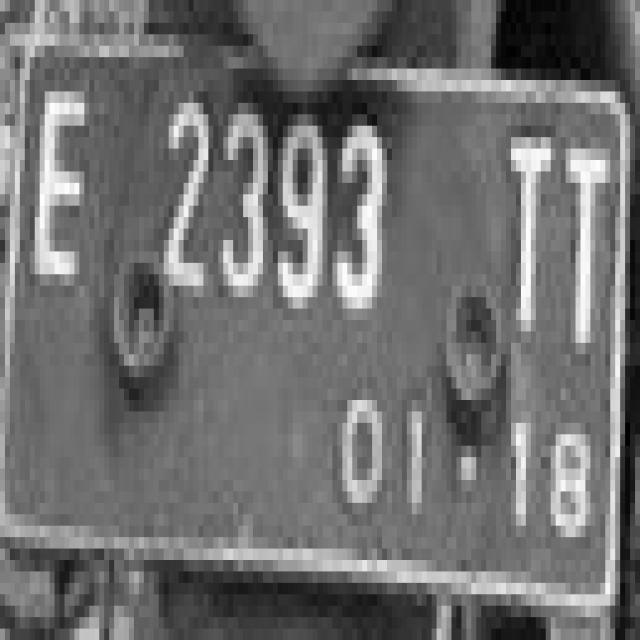2: (168, 98, 208, 291)
3: (338, 120, 401, 316), (220, 113, 262, 299)
9: (273, 110, 331, 320)
E: (31, 83, 98, 299)
T: (563, 143, 611, 351), (513, 146, 549, 337)
